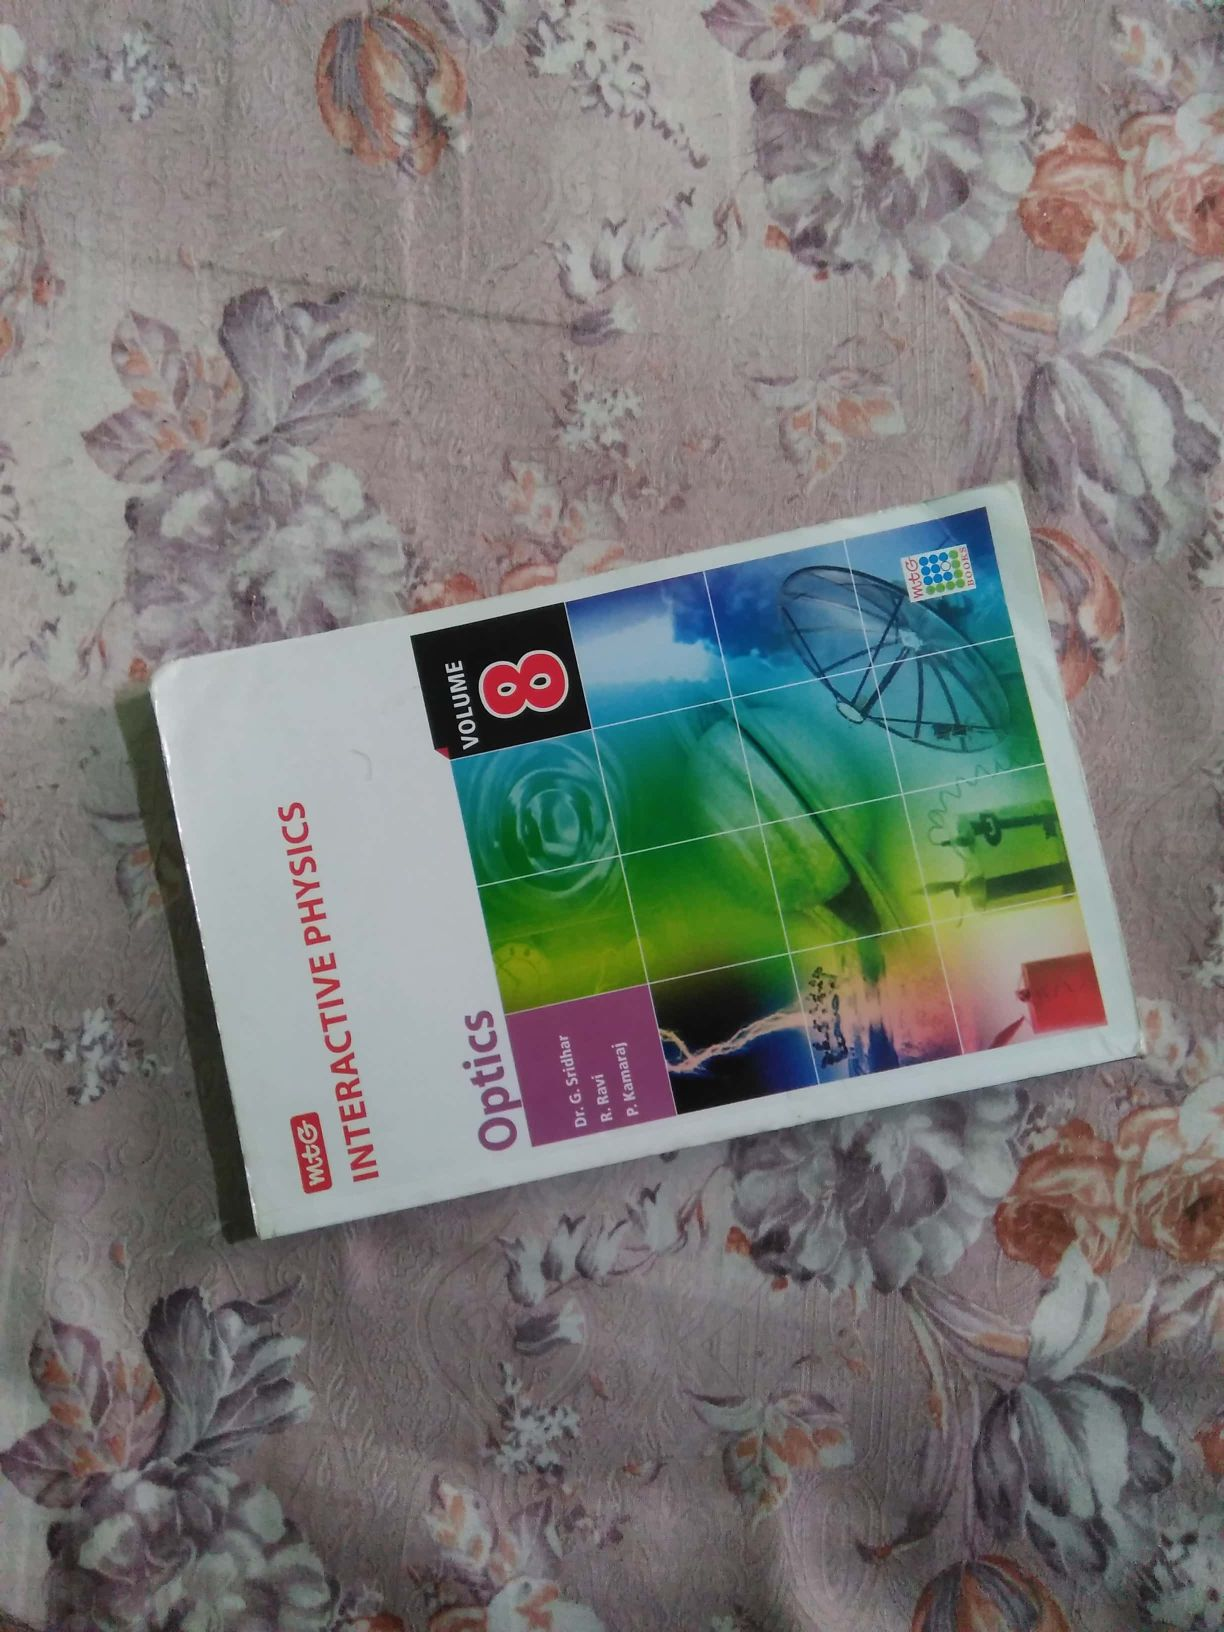optics: (127, 473, 1146, 1237)
